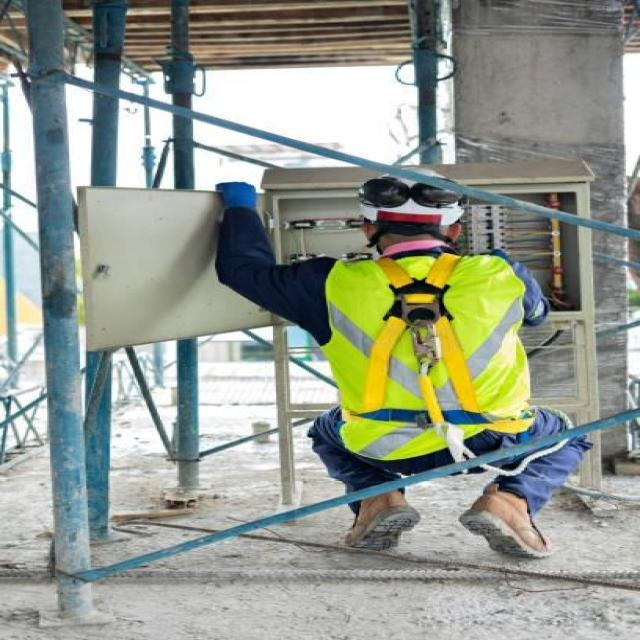Arnes_seguridad: (330, 251, 542, 478)
